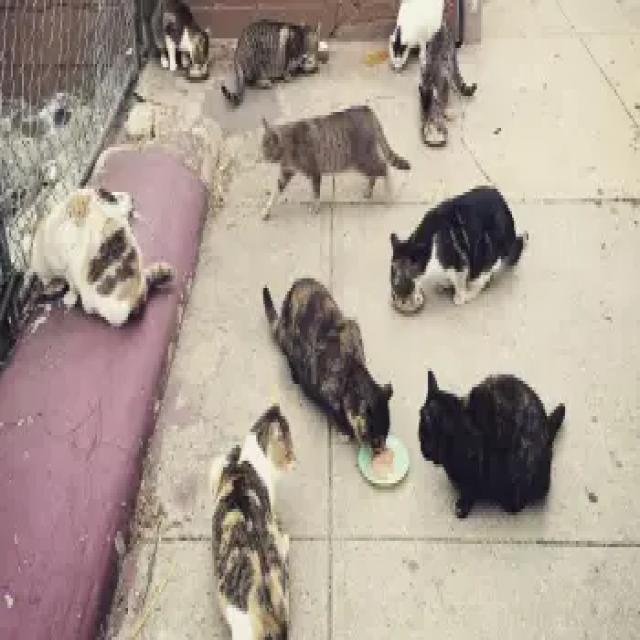cat: (10, 184, 174, 325), (264, 278, 393, 450), (420, 372, 565, 515), (211, 405, 294, 639), (392, 186, 527, 312), (263, 105, 410, 218), (221, 20, 319, 104), (419, 24, 476, 145), (151, 4, 209, 79)
